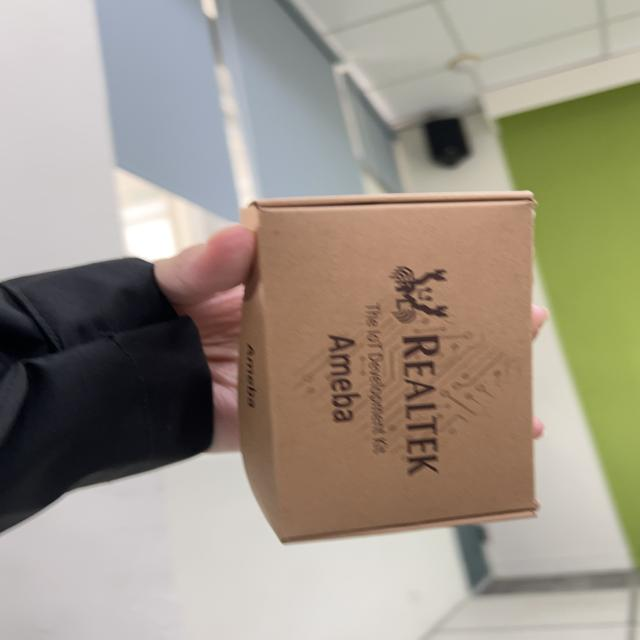box: (230, 182, 550, 556)
